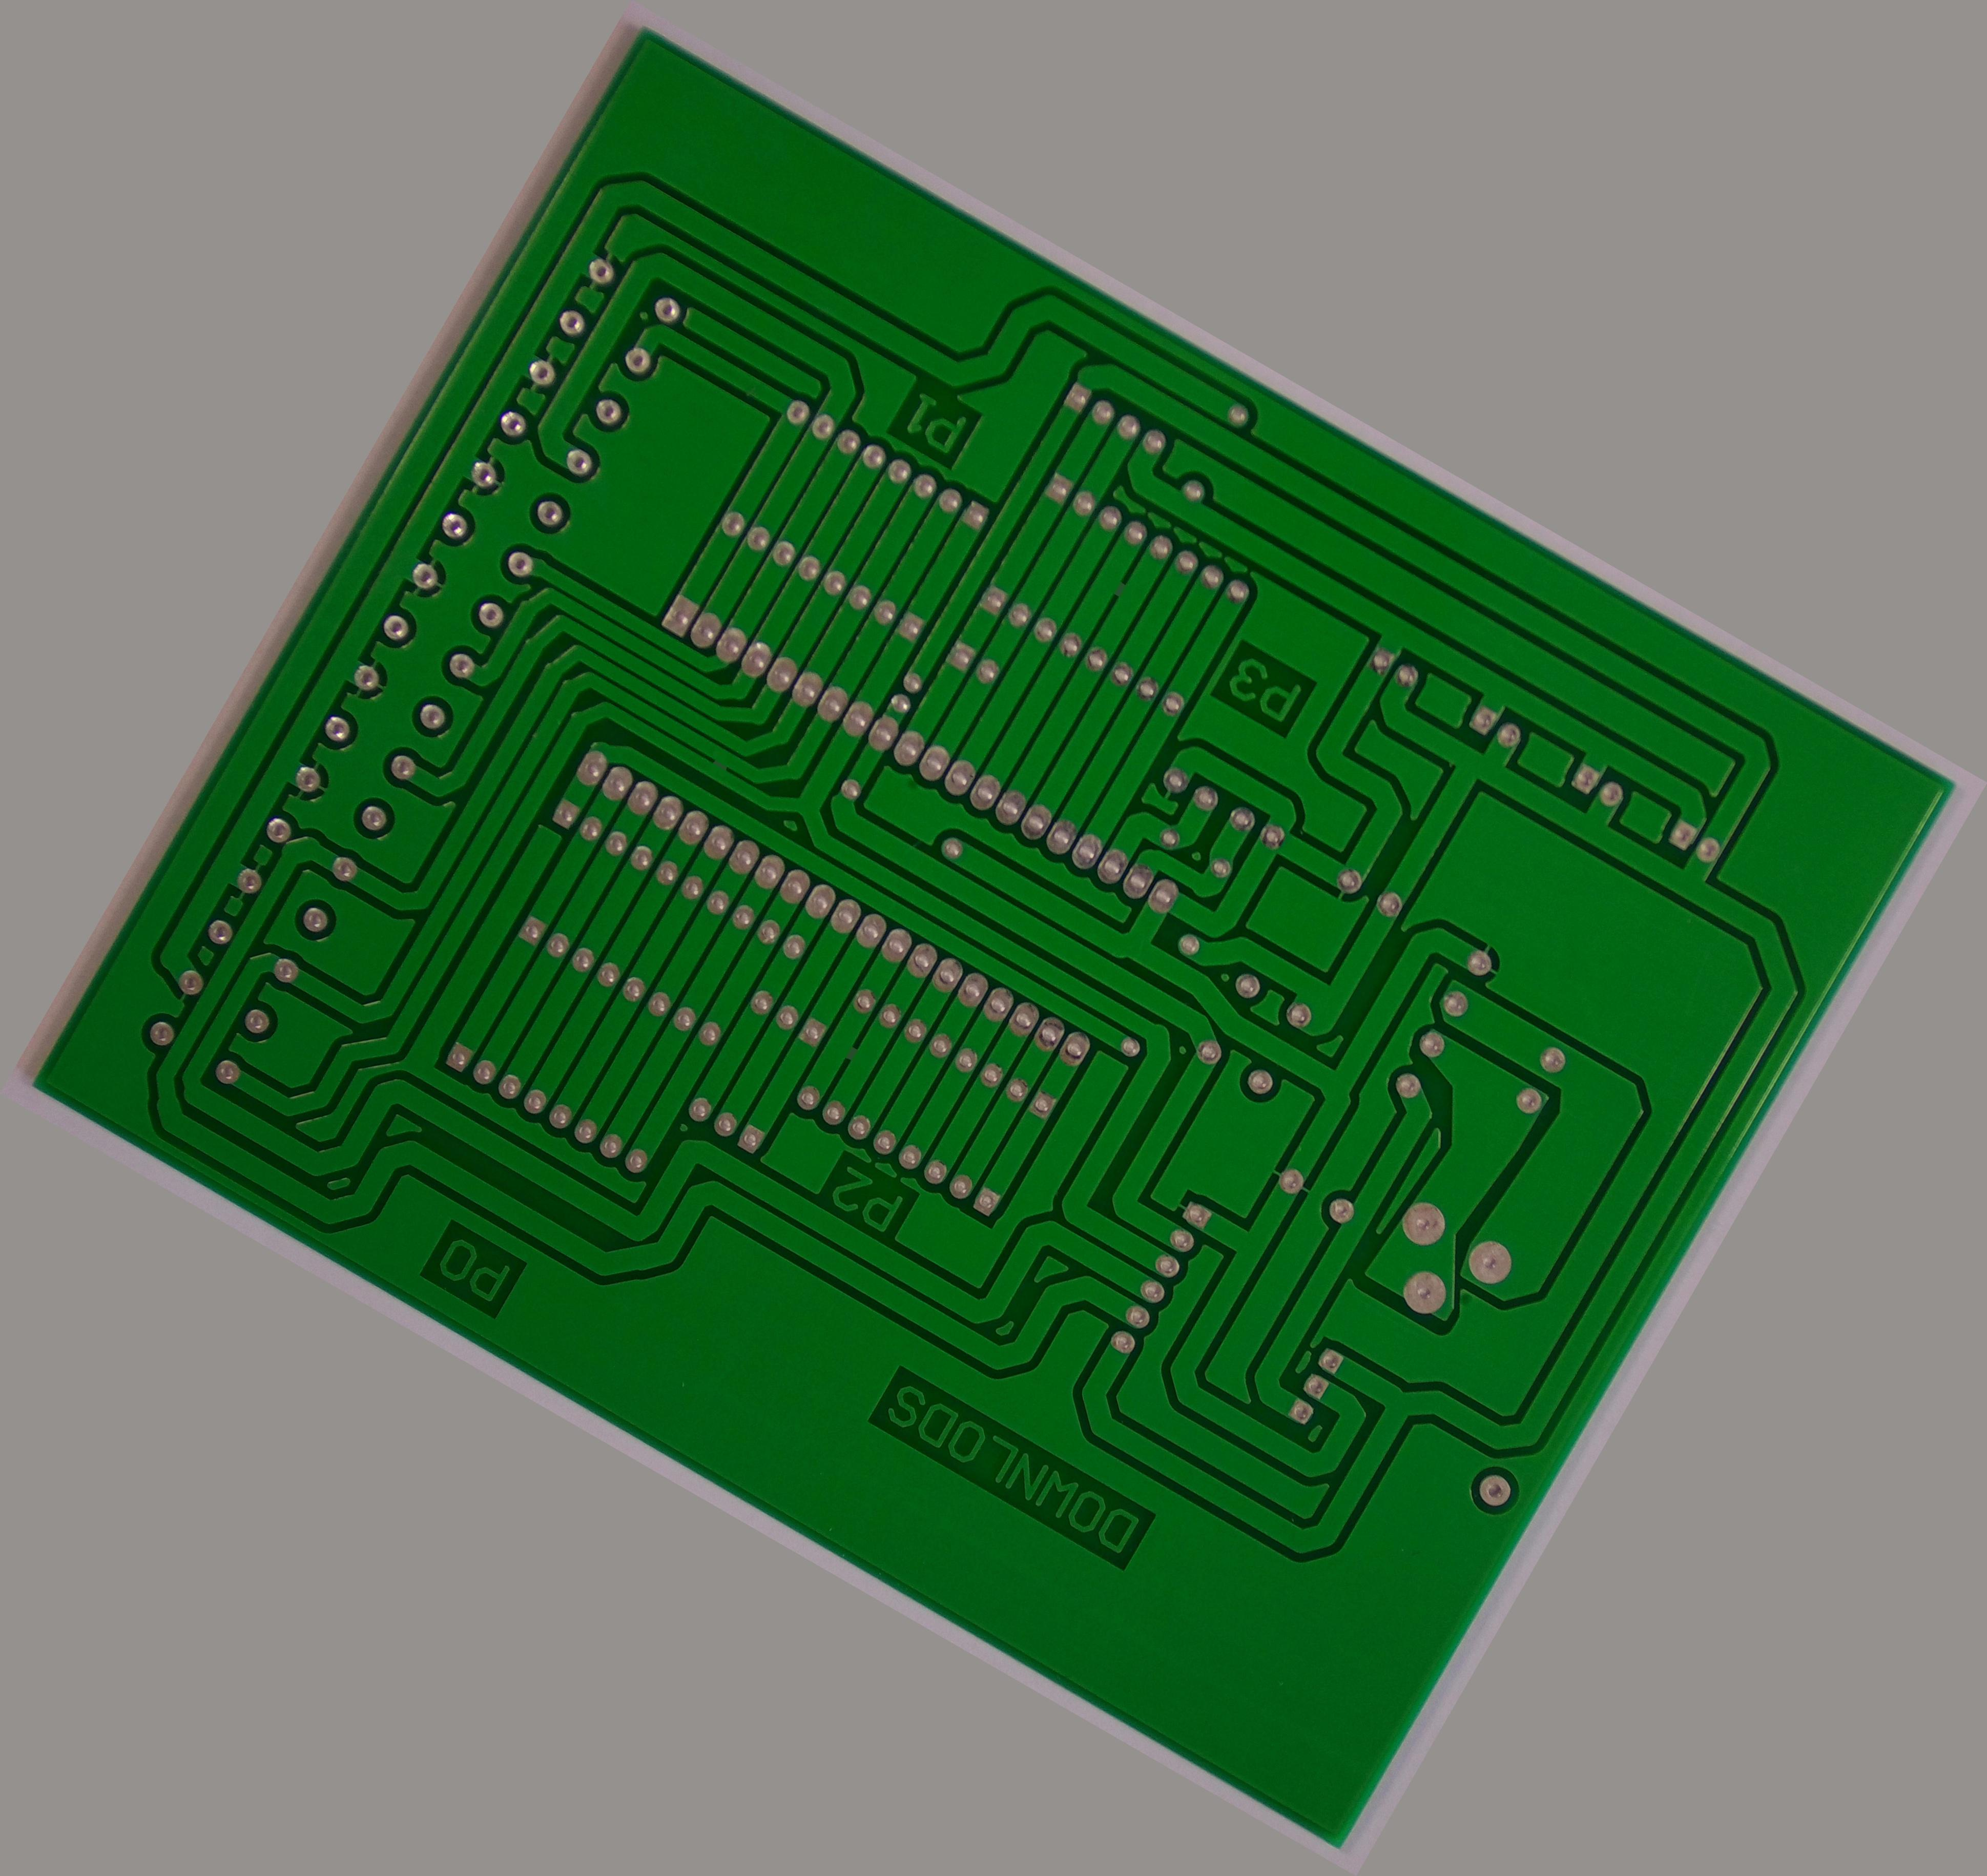short: (820, 1021, 883, 1086), (1091, 559, 1151, 619), (691, 739, 749, 795)
